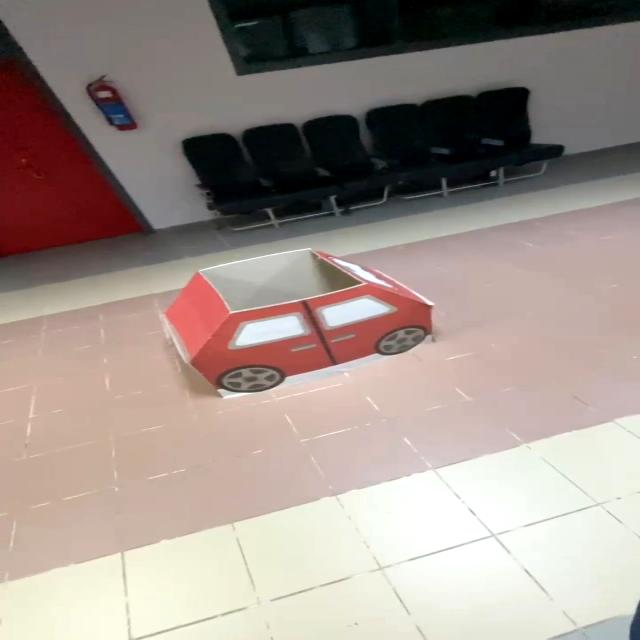red_car: (137, 233, 450, 408)
